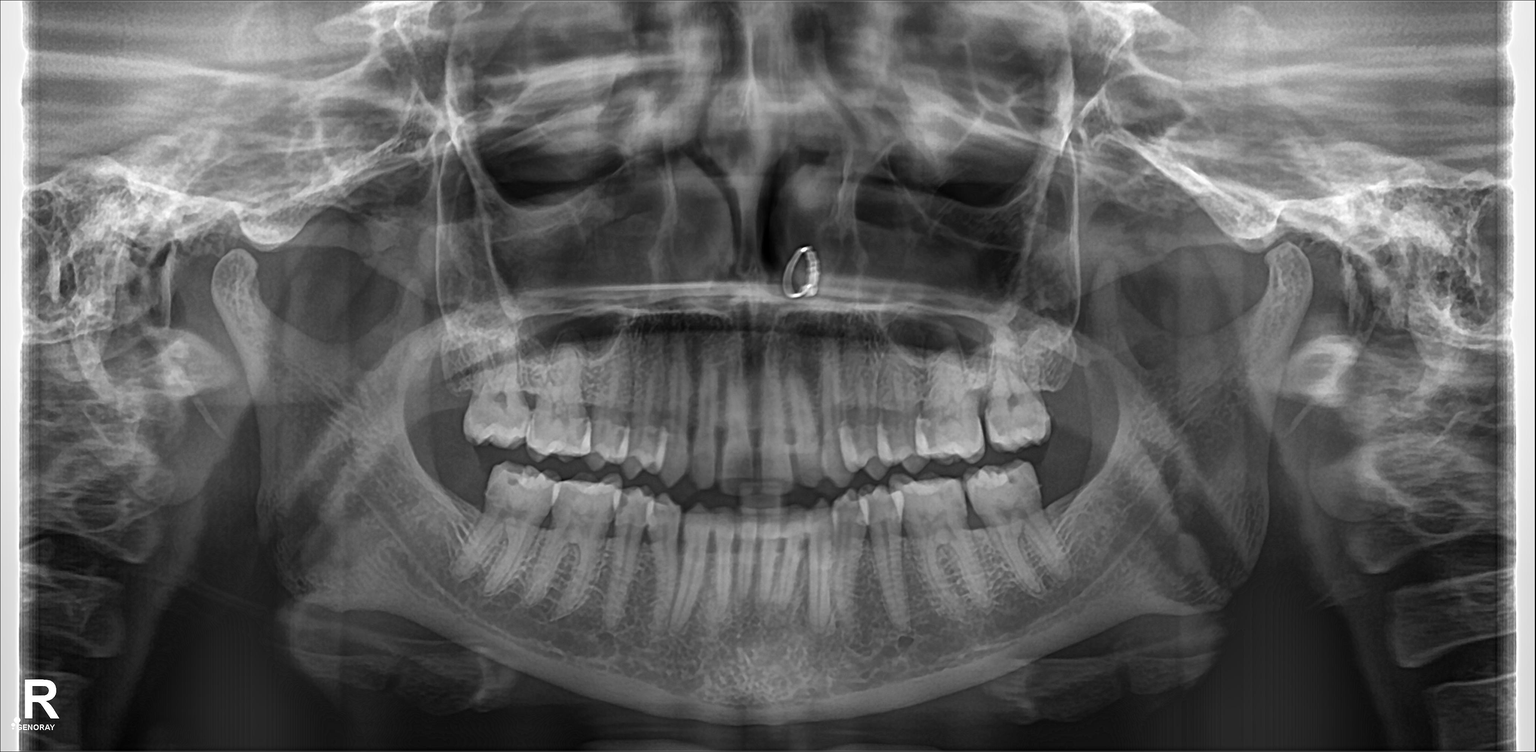Missing Tooth: (421, 352, 466, 426), (436, 447, 478, 524), (1043, 452, 1085, 529), (1043, 342, 1083, 414)
